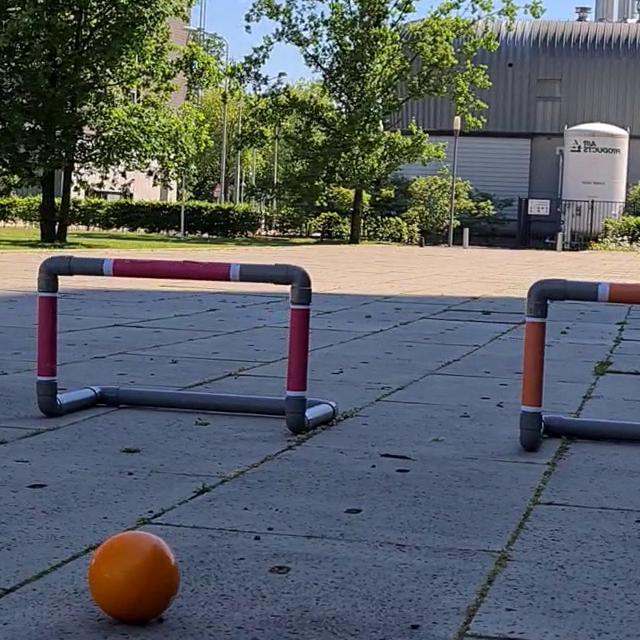ball: (84, 528, 183, 623)
